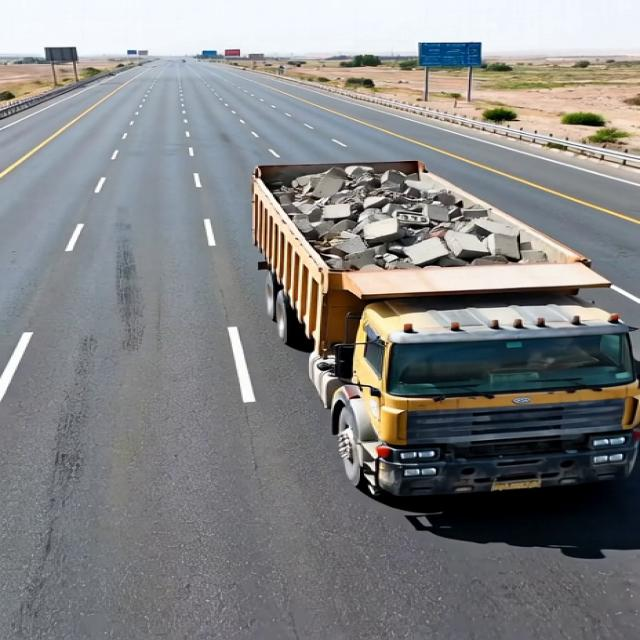trailer: (223, 159, 613, 298)
truck: (195, 93, 639, 502)
